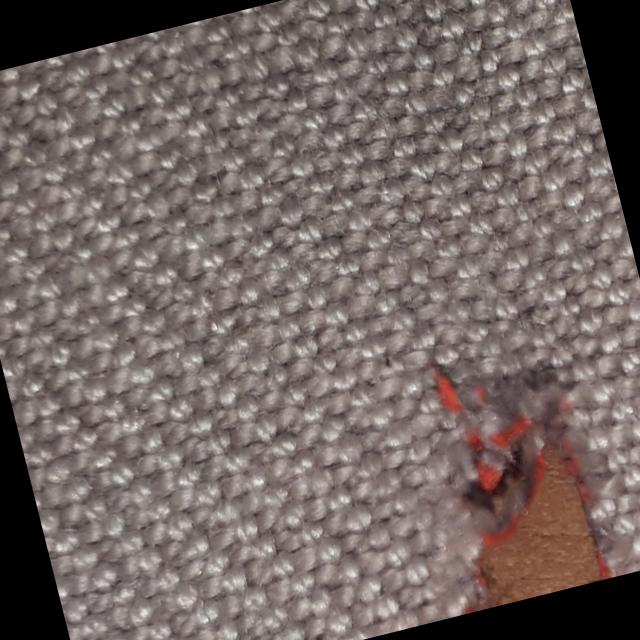hole: (406, 349, 622, 614)
